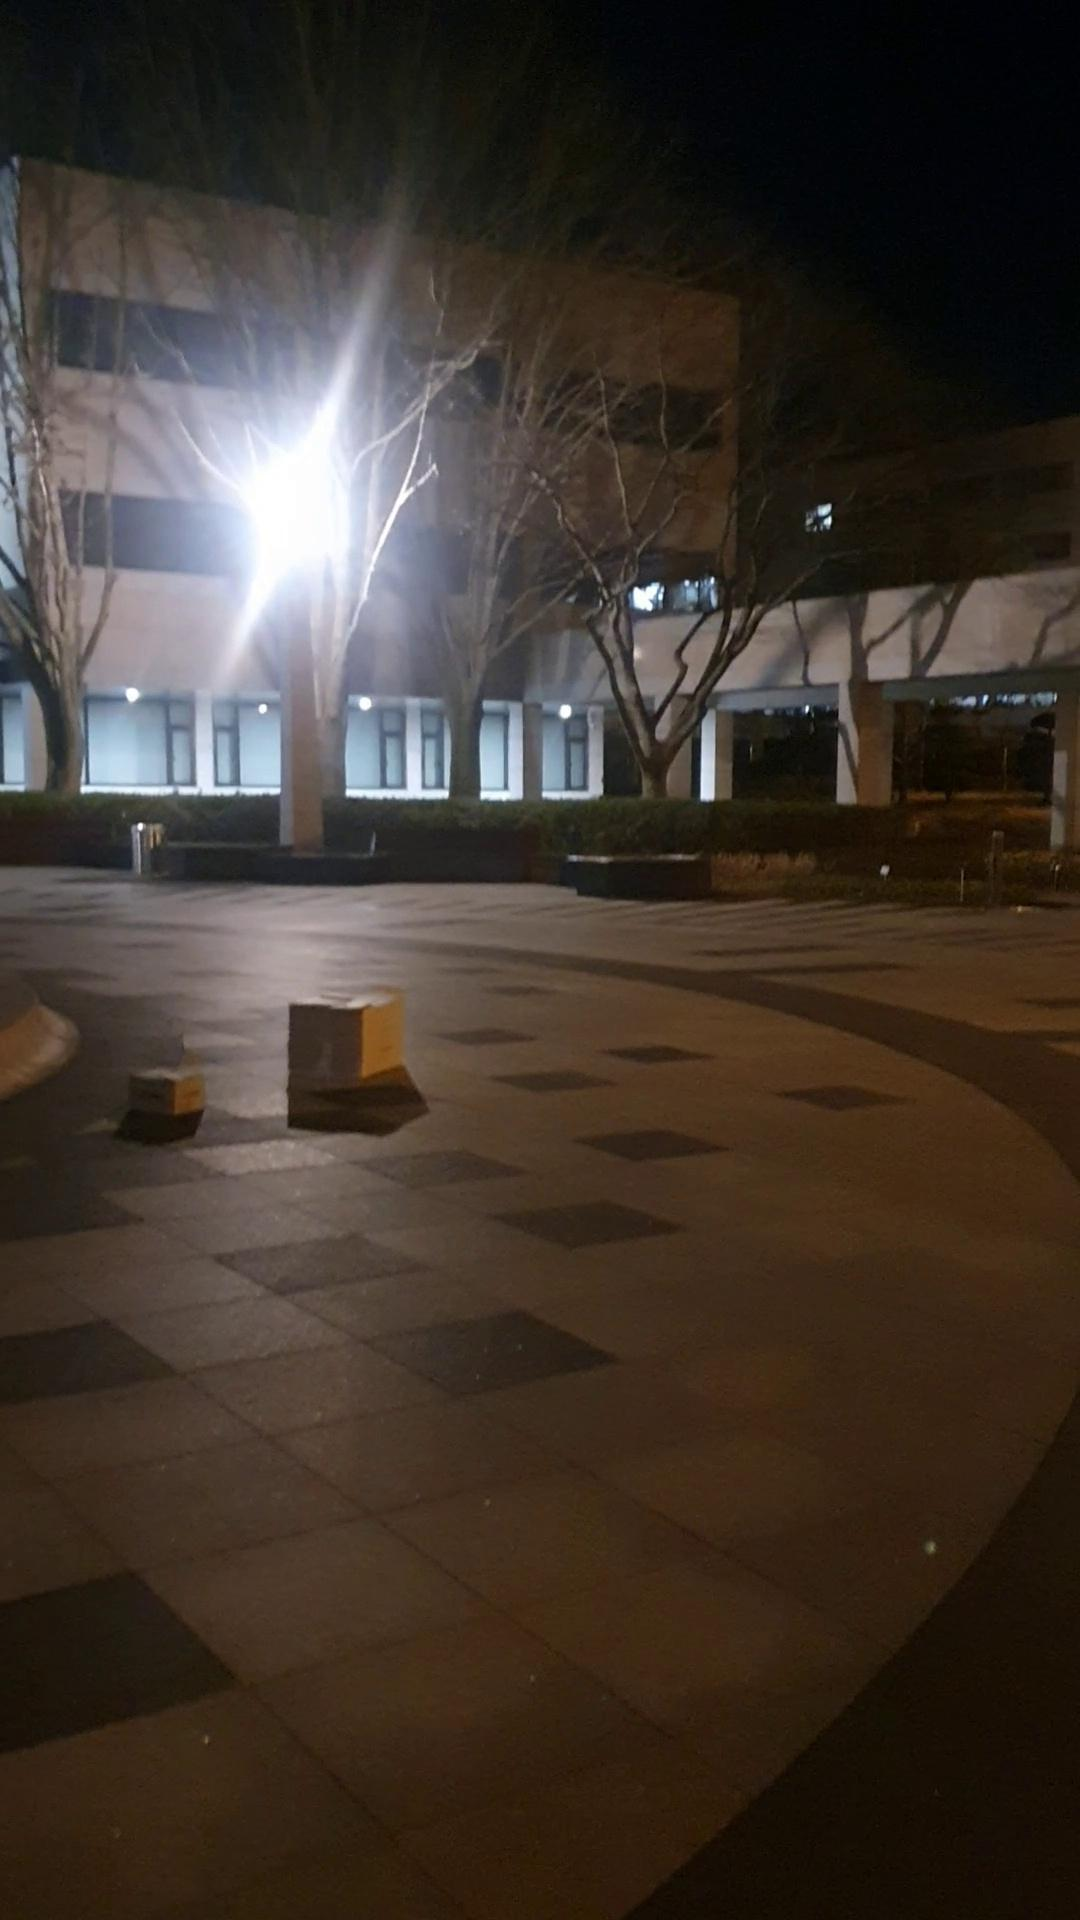Box: (278, 988, 411, 1105), (113, 1044, 220, 1137)
